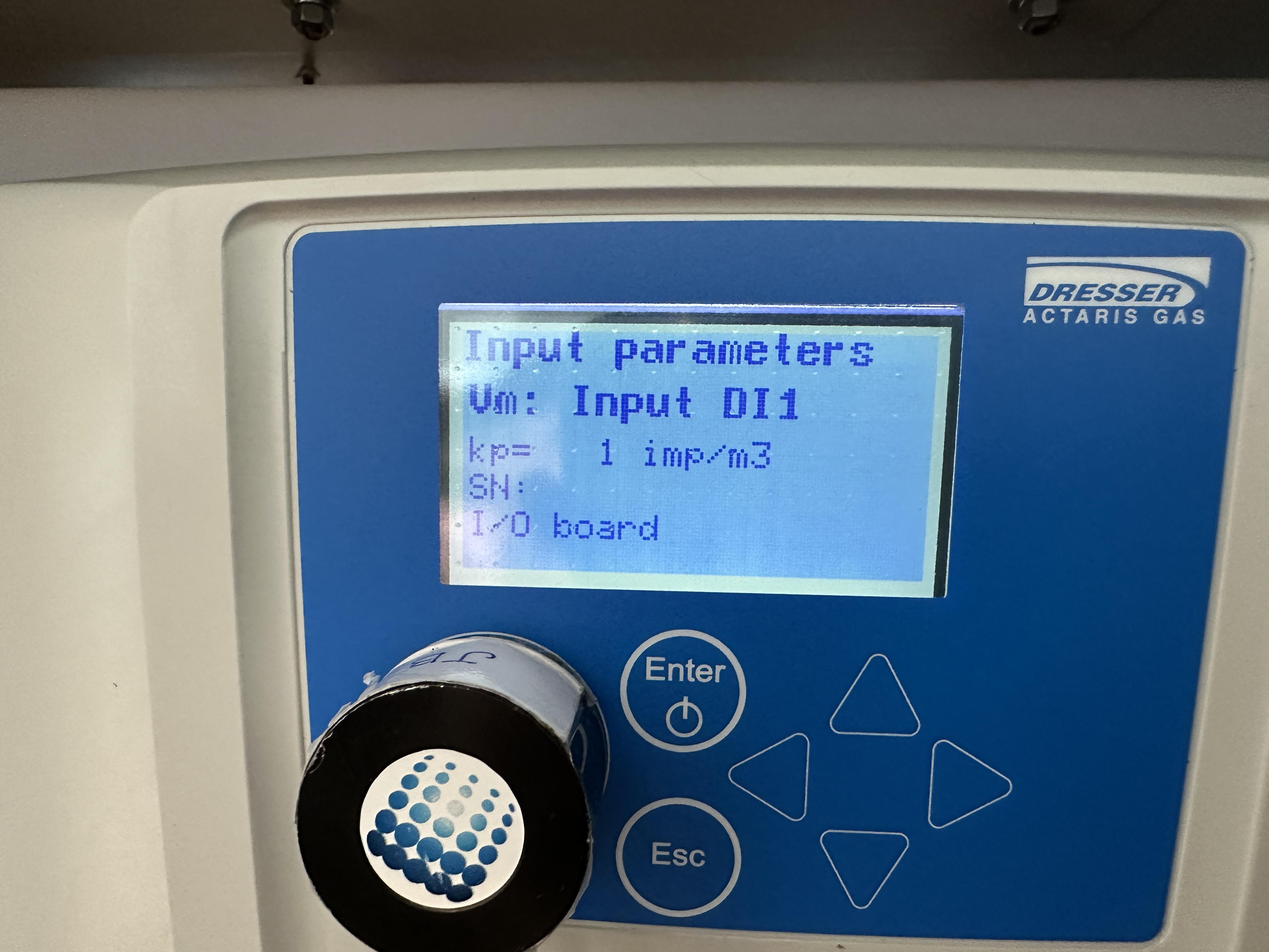digital_screen: (448, 322, 952, 598)
